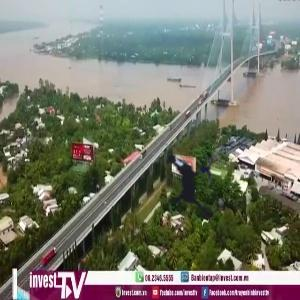drone: (128, 115, 263, 250)
